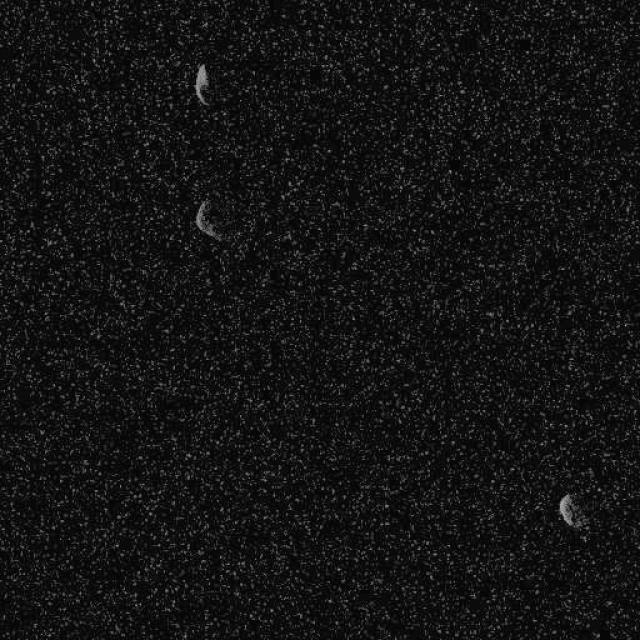D2: (194, 198, 225, 242), (556, 491, 586, 529), (192, 62, 212, 106)
